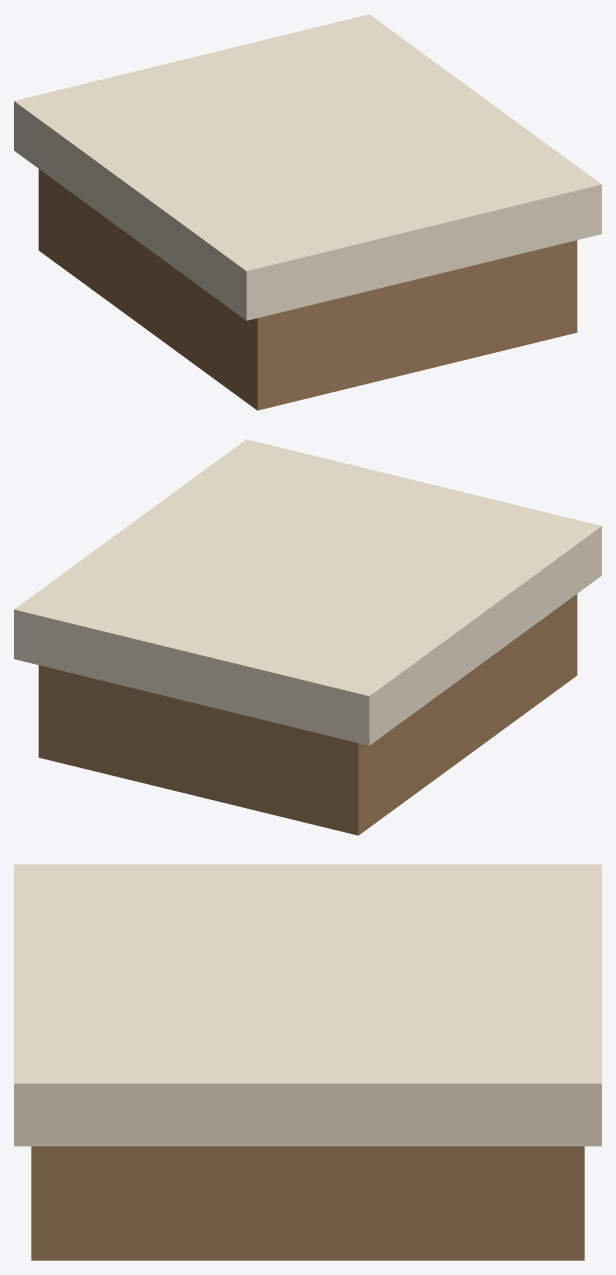
Rendered from viking_peles_pe.glb.
3 views of the same model, one above another, from view 1: azimuth 30°, elevation 25°; view 2: azimuth 150°, elevation 25°; view 3: azimuth 270°, elevation 25° (orthographic). The views are drawn at different scales.
Parts seen in each view (by area): view 1: viking_peles_pe; view 2: viking_peles_pe; view 3: viking_peles_pe.
Part boxes in pixels (x1,y1,x2,y2): viking_peles_pe: (14, 14, 601, 410); viking_peles_pe: (14, 439, 601, 835); viking_peles_pe: (14, 864, 601, 1260).
Size of the model in its own units: 0.3 by 0.12 by 0.34.
